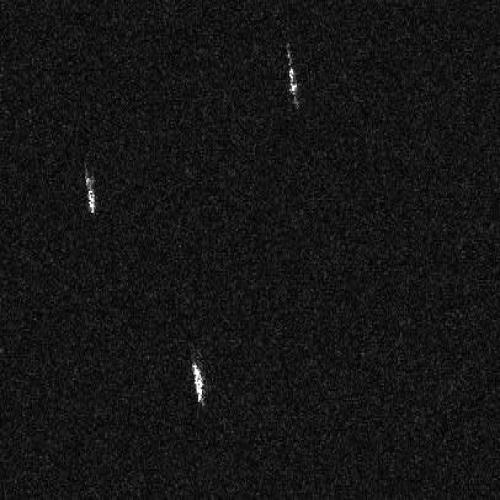ship: (83, 172, 97, 216), (191, 362, 205, 406), (287, 57, 298, 100)
